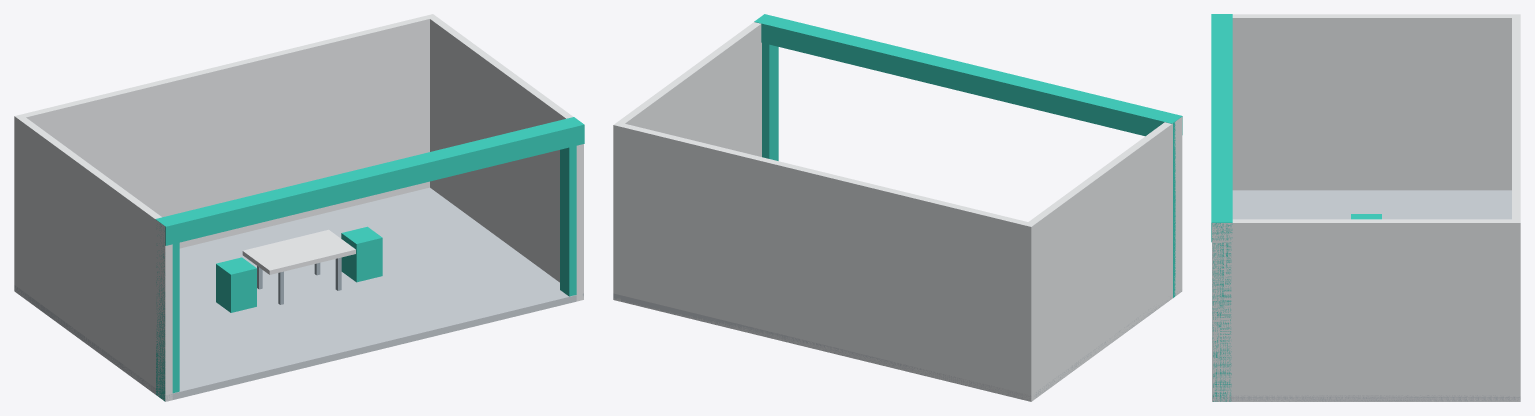
3 views of the same model, side by side, from view 1: azimuth 30°, elevation 25°; view 2: azimuth 150°, elevation 25°; view 3: azimuth 270°, elevation 25° (orthographic). The views are drawn at different scales.
Parts seen in each view (by area): view 1: Exhibition Booth Concept; view 2: Exhibition Booth Concept; view 3: Exhibition Booth Concept.
Part boxes in pixels (bbox=[...]): Exhibition Booth Concept: bbox=[14, 14, 584, 401]; Exhibition Booth Concept: bbox=[613, 14, 1182, 401]; Exhibition Booth Concept: bbox=[1211, 14, 1520, 401].
Bounding box in the file's own units: 8 × 3.2 × 5.02.
